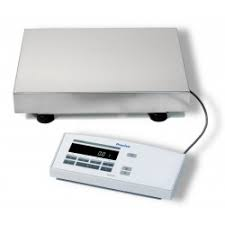Industrial Scale: (13, 28, 208, 198)
